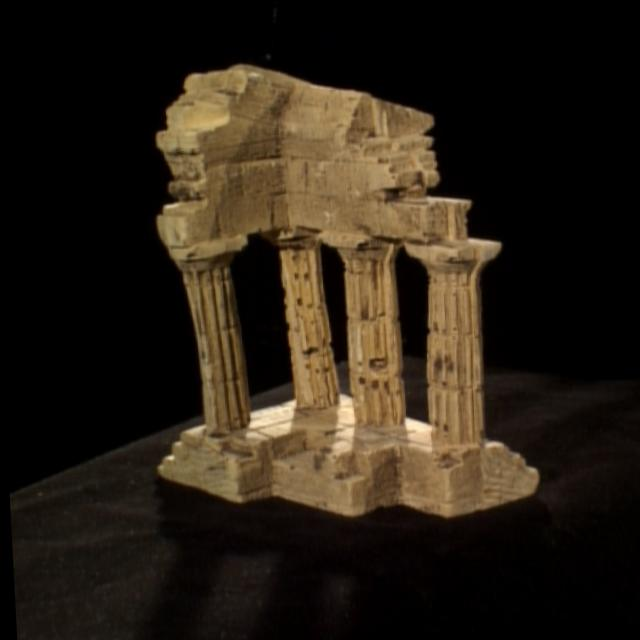Instance-Segmentation: (156, 66, 535, 517)
